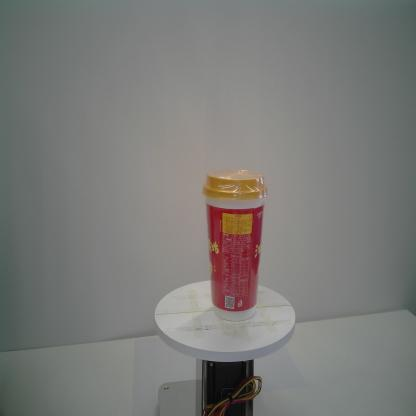Instant Drink: (202, 168, 268, 322)
